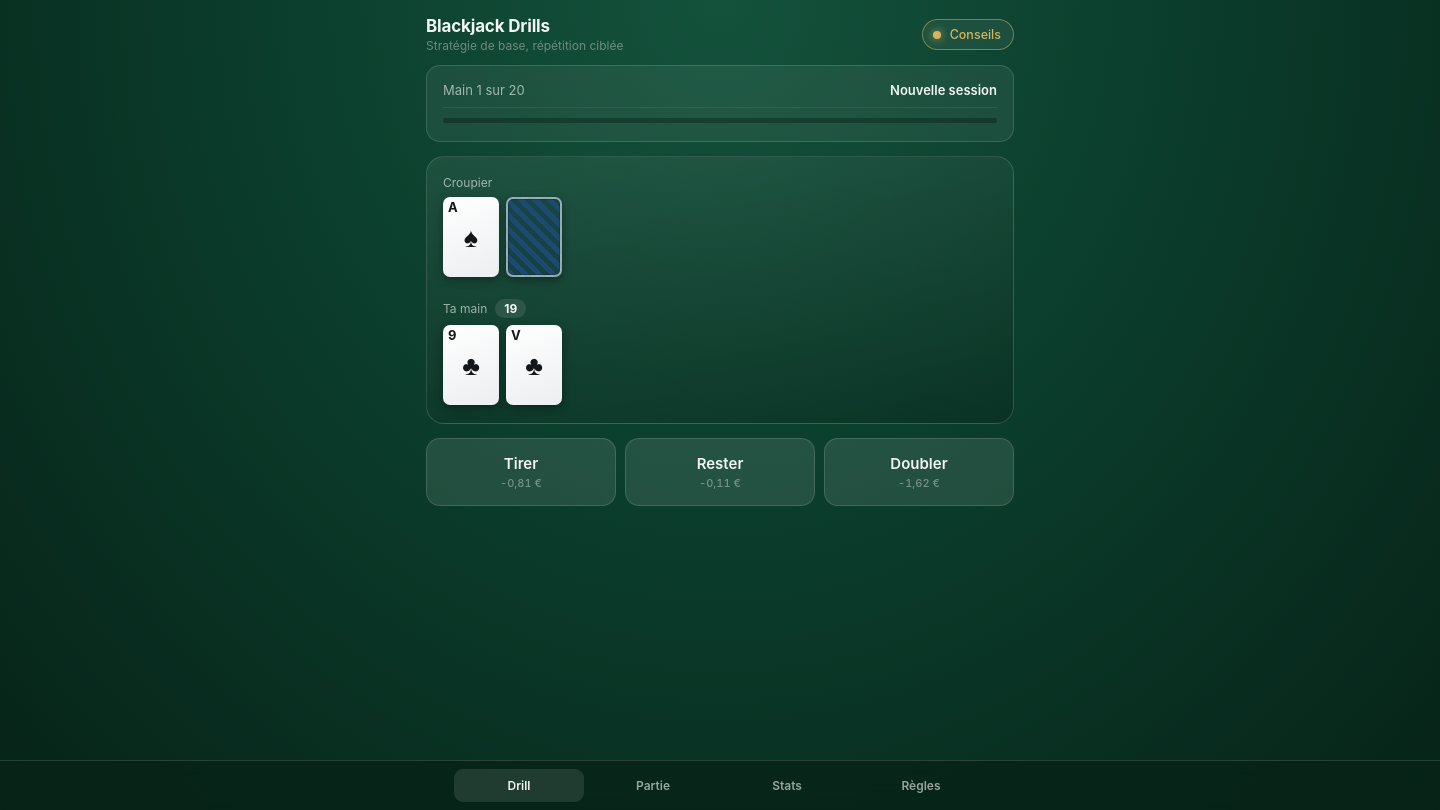
Scenario: écrans de référence › affiche la table complète et les pièges français
Click the button "Règles" at (921, 786), box [856, 769, 986, 802]
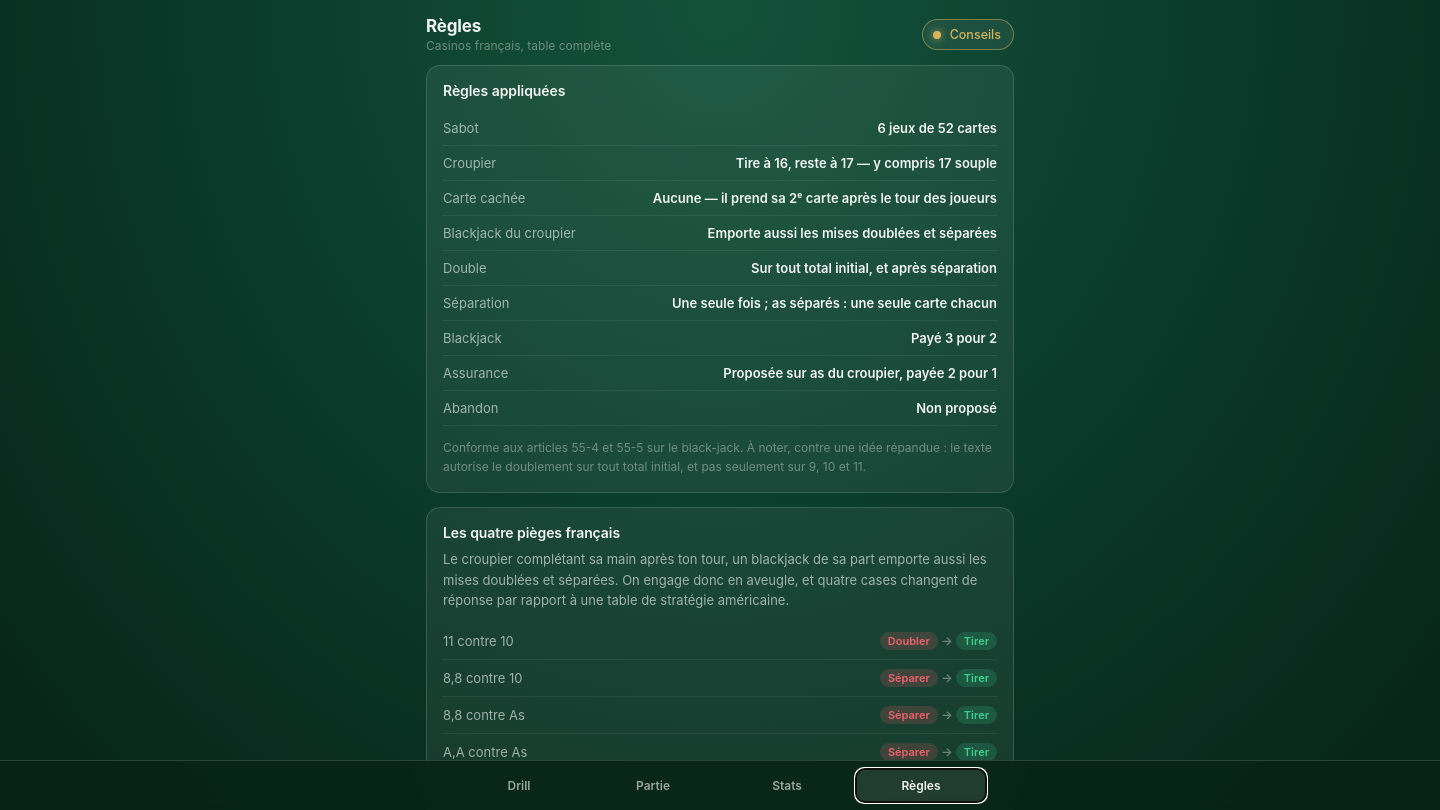
Expected: the heading "Règles appliquées" is shown, [443, 82, 565, 99]
Expected: the heading "Les quatre pièges français" is shown, [443, 524, 620, 541]
Expected: the text "6 jeux de 52 cartes" is shown, [877, 120, 997, 136]
